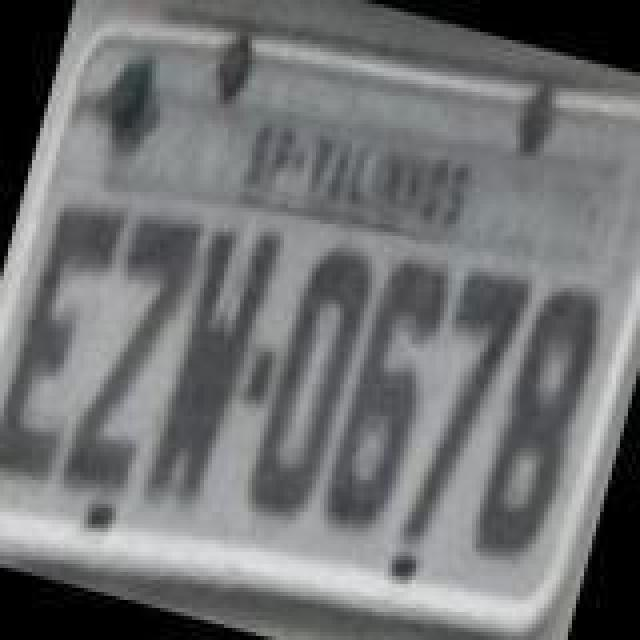6: (312, 250, 456, 542)
7: (394, 260, 534, 556)
8: (464, 276, 608, 572)
E: (2, 194, 126, 494)
O: (242, 238, 382, 530)
W: (136, 220, 280, 516)
Z: (54, 204, 202, 500)
